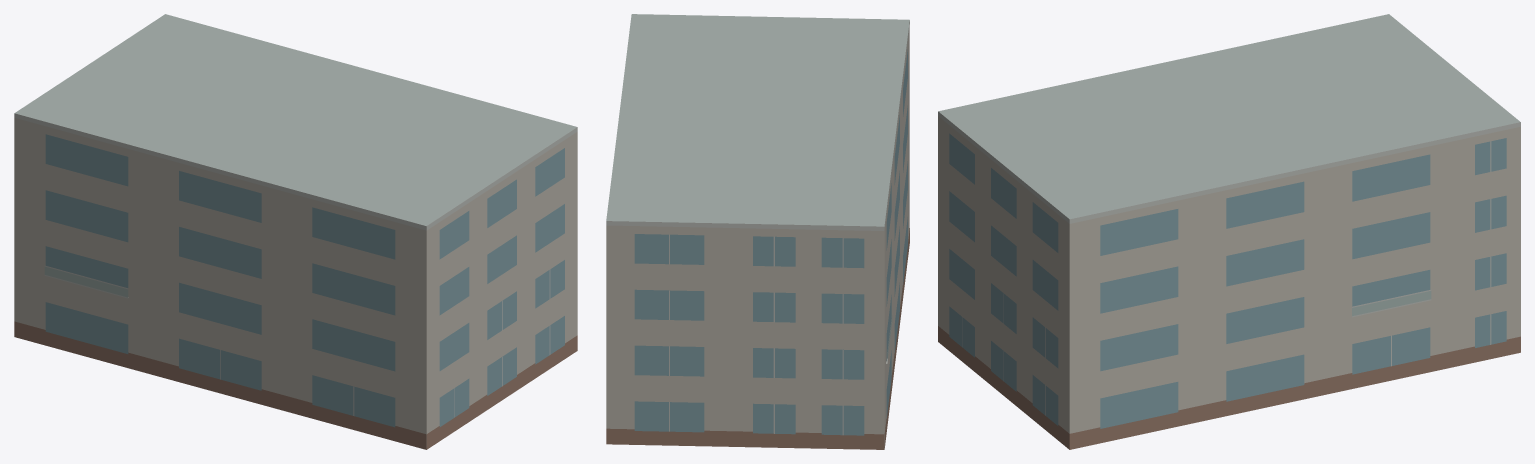
File: survey-upis-33000219.glb
3 renders of one model, left to right at view 1: azimuth 30°, elevation 25°; view 2: azimuth 150°, elevation 25°; view 3: azimuth 270°, elevation 25°, orthographic. The views are drawn at different scales.
Parts seen in each view (by area): view 1: survey-upis-33000219.tmp; view 2: survey-upis-33000219.tmp; view 3: survey-upis-33000219.tmp.
Boxes of the visible parts, x1,y1,x2,y2 form: survey-upis-33000219.tmp: [14, 14, 577, 449]; survey-upis-33000219.tmp: [606, 14, 909, 449]; survey-upis-33000219.tmp: [938, 14, 1520, 449].
Bounding box in the file's own units: 23.31 × 12.2 × 27.95.
